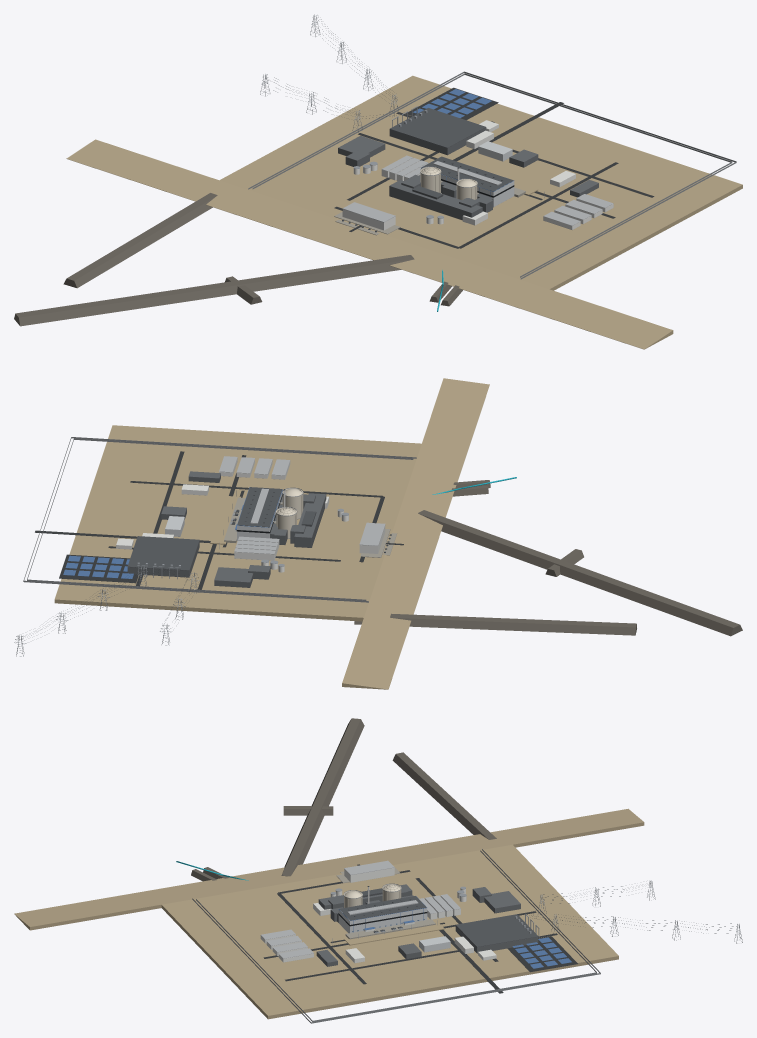
File: koeberg.glb
3 views of the same model, one above another, from view 1: azimuth 30°, elevation 25°; view 2: azimuth 150°, elevation 25°; view 3: azimuth 270°, elevation 25° (orthographic). The views are drawn at different scales.
Visible parts, largest first — view 1: site_terrace, site_beach, site_breakwater_south, site_breakwater_north, ext_switchyard_roof, ext_nab_west, site, ext_th_roof, site_carpark, ext_switchyard_hall, ext_north_block, site_fence_0_e (+2 smaller); view 2: site_terrace, site_beach, site_breakwater_south, site_breakwater_north, ext_switchyard_roof, site, ext_th_roof, site_carpark, ext_nab_west, site_fence_0_n, site_fence_1_s, ext_north_block (+4 smaller); view 3: site_terrace, site_beach, site_breakwater_south, site_breakwater_north, ext_switchyard_roof, site, ext_th_body, site_carpark, ext_th_roof, ext_th_embankment, ext_north_block, site_fence_0_e (+2 smaller).
Boxes of the visible parts, <box> form: site_terrace: <box>220,75,742,290</box>; site_beach: <box>66,139,673,349</box>; site_breakwater_south: <box>14,255,414,326</box>; site_breakwater_north: <box>63,193,217,288</box>; ext_switchyard_roof: <box>390,108,485,148</box>; ext_nab_west: <box>389,180,482,220</box>; site: <box>274,19,654,197</box>; ext_th_roof: <box>421,156,513,191</box>; site_carpark: <box>405,87,498,120</box>; ext_switchyard_hall: <box>389,127,486,155</box>; ext_north_block: <box>338,135,385,157</box>; site_fence_0_e: <box>464,71,736,162</box>; site_terrace: <box>54,425,421,621</box>; site_beach: <box>342,378,489,689</box>; site_breakwater_south: <box>418,510,742,636</box>; site_breakwater_north: <box>354,613,636,635</box>; ext_switchyard_roof: <box>127,536,199,570</box>; site: <box>23,451,236,638</box>; ext_th_roof: <box>237,487,282,527</box>; site_carpark: <box>59,554,137,583</box>; ext_nab_west: <box>294,493,326,547</box>; site_fence_0_n: <box>23,580,368,602</box>; site_fence_1_s: <box>74,438,413,459</box>; ext_north_block: <box>214,567,253,587</box>; site_terrace: <box>161,844,618,1019</box>; site_beach: <box>14,808,644,930</box>; site_breakwater_south: <box>281,718,364,876</box>; site_breakwater_north: <box>392,752,496,839</box>; ext_switchyard_roof: <box>456,914,538,947</box>; site: <box>285,889,740,981</box>; ext_th_body: <box>338,908,427,933</box>; site_carpark: <box>507,936,577,972</box>; ext_th_roof: <box>339,896,426,920</box>; ext_th_embankment: <box>344,923,444,945</box>; ext_north_block: <box>484,891,520,913</box>; site_fence_0_e: <box>311,973,600,1023</box>.
Size of what is drawn, in the model's own units: 1535 by 85.2 by 1540.
